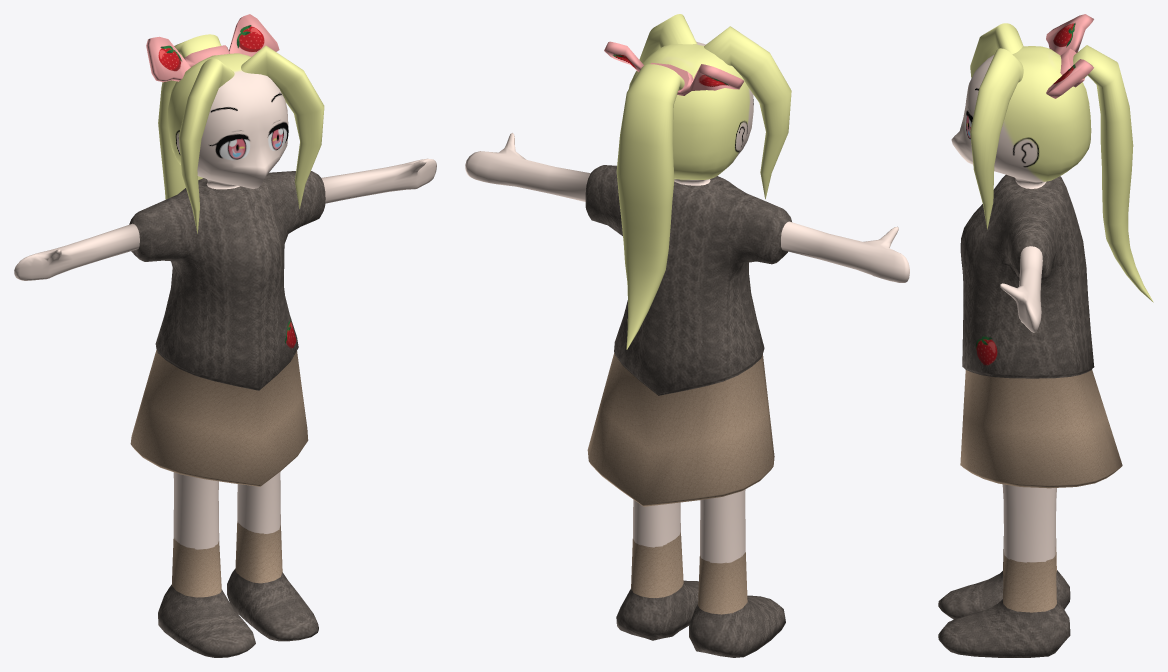
Rendered from Mother_Final.fbx.
3 renders of one model, left to right at view 1: azimuth 30°, elevation 25°; view 2: azimuth 150°, elevation 25°; view 3: azimuth 270°, elevation 25°, orthographic. The views are drawn at different scales.
Parts seen in each view (by area): view 1: Body_Final, Hair_Final; view 2: Body_Final, Hair_Final; view 3: Body_Final, Hair_Final.
Part boxes in pixels (box(x1,y1,x2,y2)): Body_Final: box(14, 53, 436, 657); Hair_Final: box(146, 14, 324, 233); Body_Final: box(465, 41, 909, 657); Hair_Final: box(604, 14, 791, 349); Body_Final: box(938, 46, 1122, 657); Hair_Final: box(970, 14, 1153, 302).
Size of the model in its own units: 162 by 211 by 69.69.
2 materials, 2 textured.
